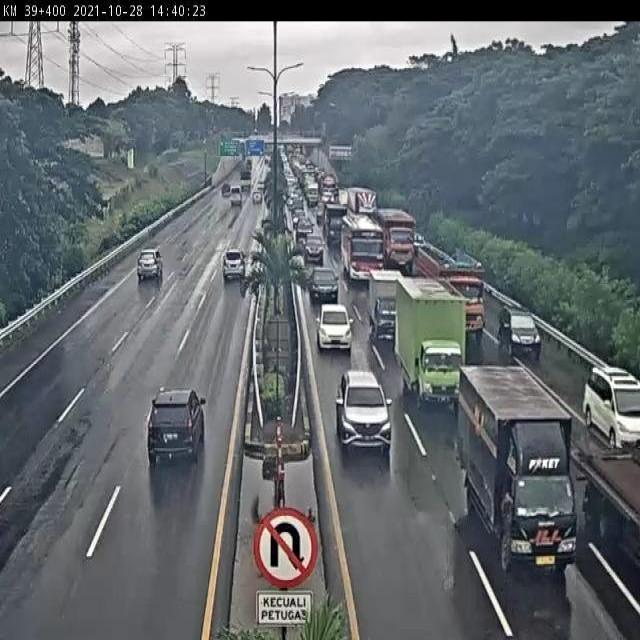bus-l-: (343, 214, 384, 278)
car: (336, 368, 392, 455), (146, 385, 208, 463), (582, 365, 640, 448), (498, 305, 542, 355), (314, 304, 352, 352), (221, 245, 252, 284), (308, 269, 340, 304), (137, 247, 164, 280)
truck-l-: (416, 242, 485, 338), (379, 210, 416, 266)
truck-m-: (457, 364, 578, 572), (395, 278, 470, 410)
truck-s-: (369, 265, 402, 335)
